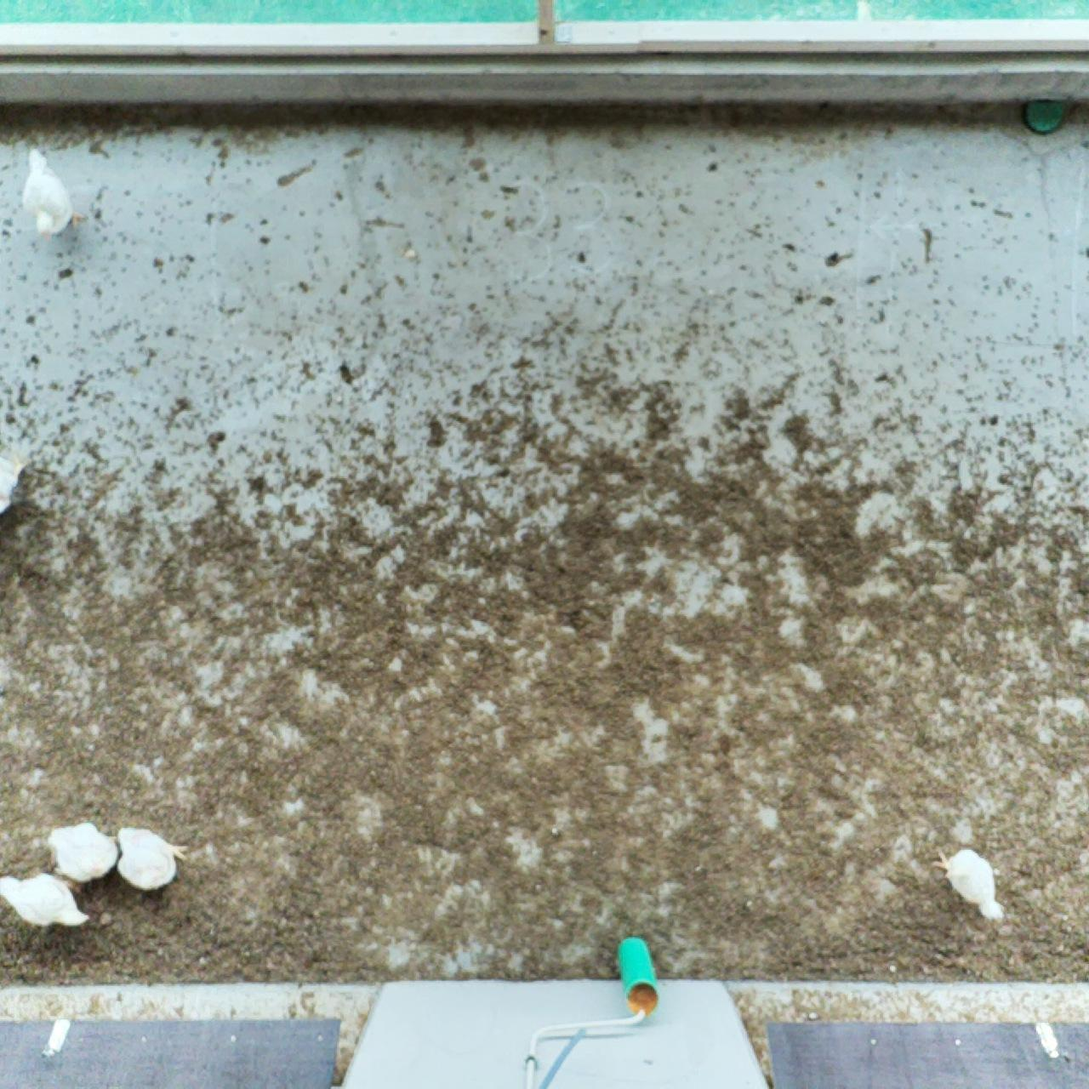chicken: (14, 145, 88, 247), (928, 837, 1010, 924), (0, 869, 93, 935), (110, 824, 191, 896), (42, 817, 124, 887)
